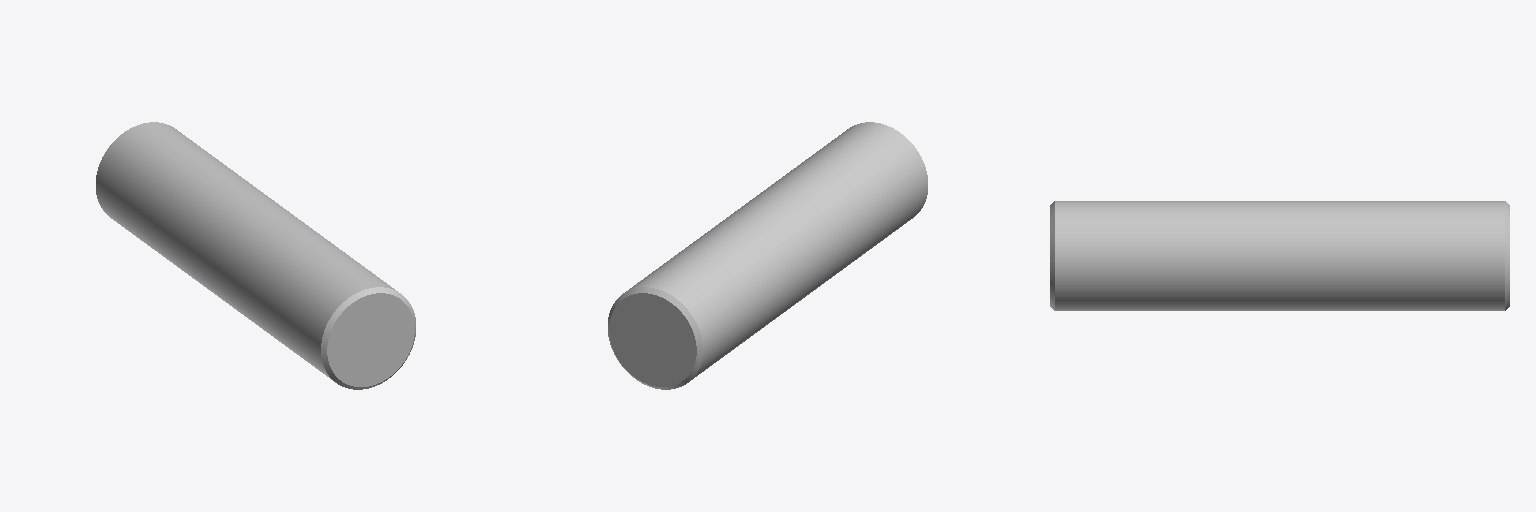
The model's file is factory_round_peg_12mm_loose.obj.
3 views of the same model, side by side, from view 1: azimuth 30°, elevation 25°; view 2: azimuth 150°, elevation 25°; view 3: azimuth 270°, elevation 25° (orthographic).
Visible parts, largest first — view 1: mesh2, mesh0, mesh1; view 2: mesh2, mesh4, mesh3; view 3: mesh2, mesh1, mesh3.
Boxes of the visible parts, box(x1,y1,x2,y2) form: mesh2: box(96, 122, 397, 382); mesh0: box(327, 293, 414, 386); mesh1: box(321, 287, 415, 389); mesh2: box(626, 122, 927, 382); mesh4: box(609, 293, 696, 386); mesh3: box(608, 287, 702, 389); mesh2: box(1055, 201, 1504, 310); mesh1: box(1050, 201, 1054, 310); mesh3: box(1505, 201, 1509, 310).
Size of the model in its own units: 0.012 by 0.012 by 0.05.